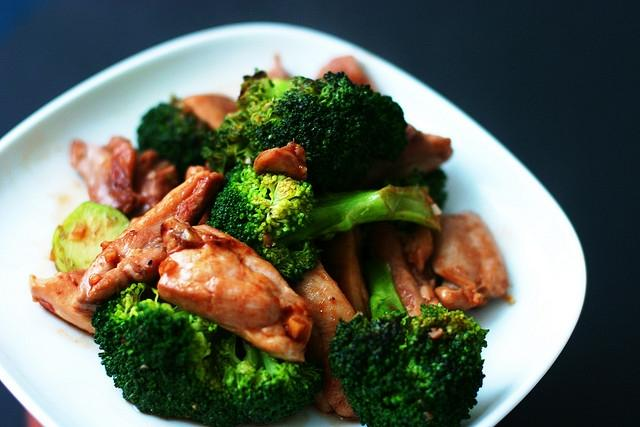broccoli: (90, 283, 323, 426), (328, 224, 490, 426), (206, 163, 442, 285), (241, 71, 408, 191), (137, 102, 216, 184), (389, 166, 449, 210)
